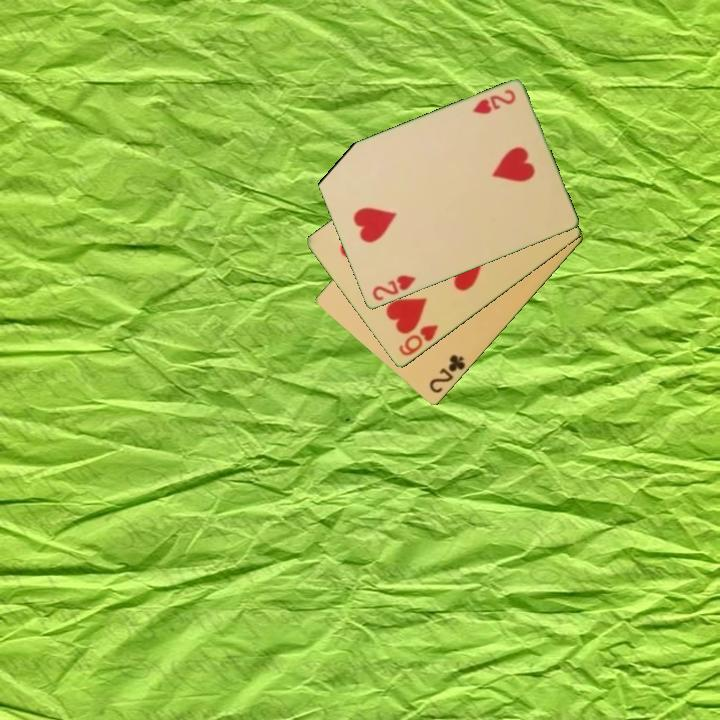2c: (426, 351, 468, 397)
2h: (368, 272, 418, 304), (469, 86, 518, 118)
6h: (395, 321, 441, 359)
